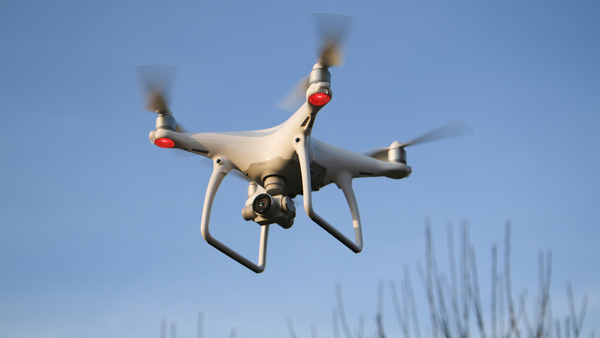drone: (135, 41, 429, 275)
